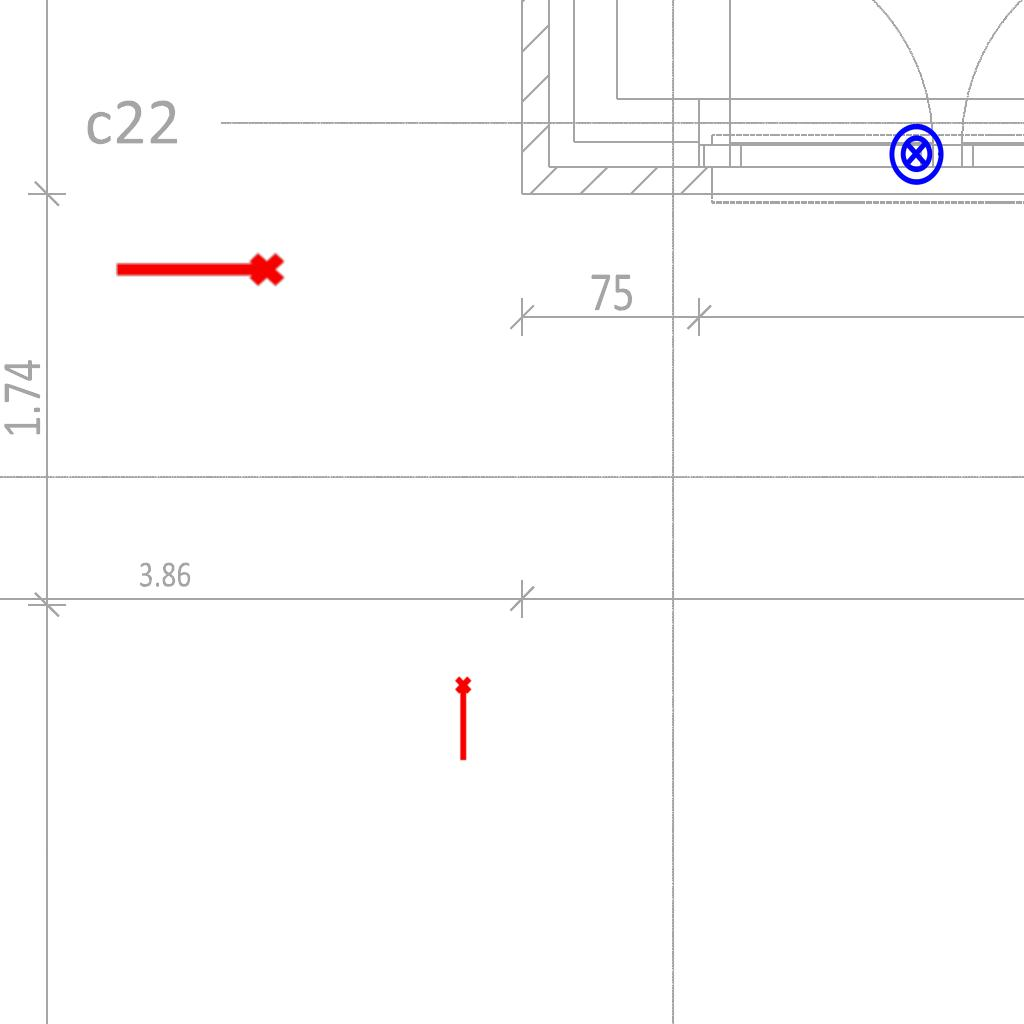ASR_Ansaugoeffnung: (111, 249, 287, 295), (453, 675, 476, 763)
Taster_beleuchtet: (883, 121, 949, 187)
